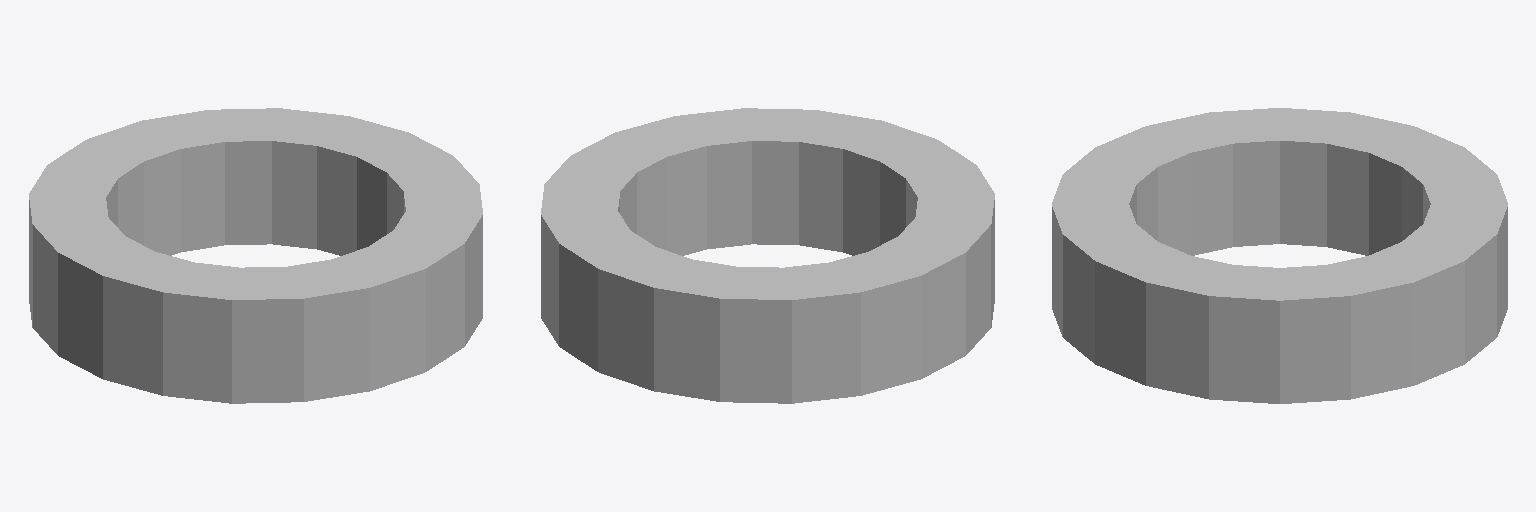
Rendered from CementGrower_07b_UV.obj.
The picture shows the model from 3 angles: view 1: azimuth 30°, elevation 25°; view 2: azimuth 150°, elevation 25°; view 3: azimuth 270°, elevation 25°; orthographic projection.
Parts seen in each view (by area): view 1: obj_0; view 2: obj_0; view 3: obj_0.
Boxes of the visible parts, x1=… form: obj_0: x1=29, y1=108, x2=482, y2=403; obj_0: x1=541, y1=108, x2=994, y2=403; obj_0: x1=1052, y1=108, x2=1507, y2=403.
Size of the model in its own units: 1.2 by 0.3 by 1.2.